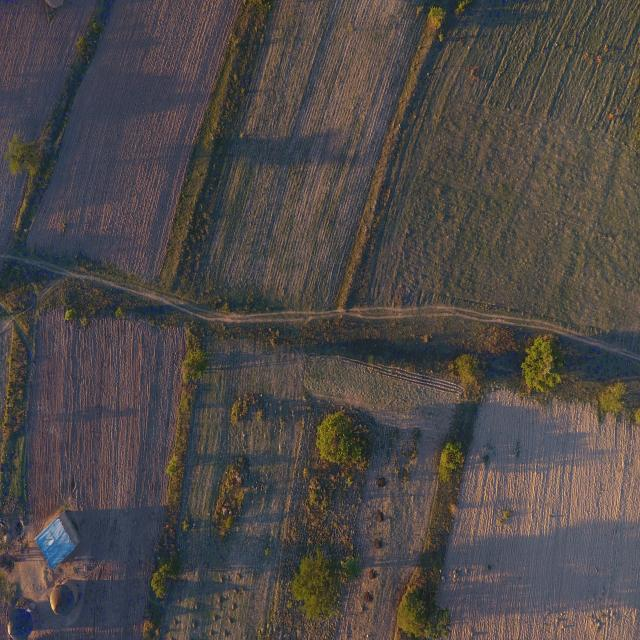boundaries: (34, 250, 626, 629), (152, 32, 270, 288), (331, 45, 443, 291)
